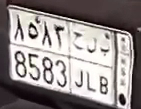3: (53, 24, 68, 89)
5: (28, 22, 41, 81)
8: (14, 14, 28, 78), (42, 21, 54, 84)
B: (98, 43, 112, 95)
J: (73, 30, 85, 88)
L: (84, 36, 99, 93)
